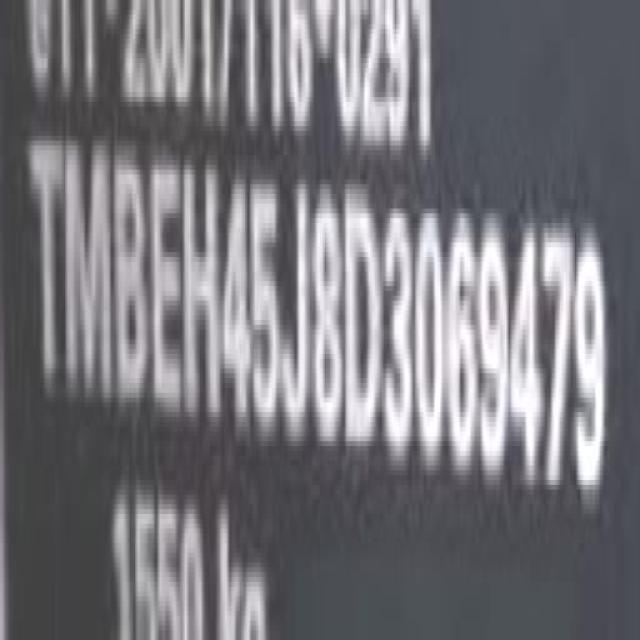0: (417, 209, 447, 466)
3: (386, 203, 416, 458)
4: (510, 216, 542, 492), (221, 167, 252, 436)
5: (252, 171, 283, 440)
6: (448, 207, 479, 473)
7: (543, 220, 575, 498)
8: (313, 187, 344, 446)
9: (576, 230, 608, 500), (478, 218, 509, 482)
B: (114, 146, 152, 411)
D: (346, 183, 384, 450)
E: (151, 153, 184, 421)
H: (186, 153, 225, 428)
J: (282, 174, 314, 442)
M: (64, 134, 115, 410)
T: (28, 134, 65, 405)
